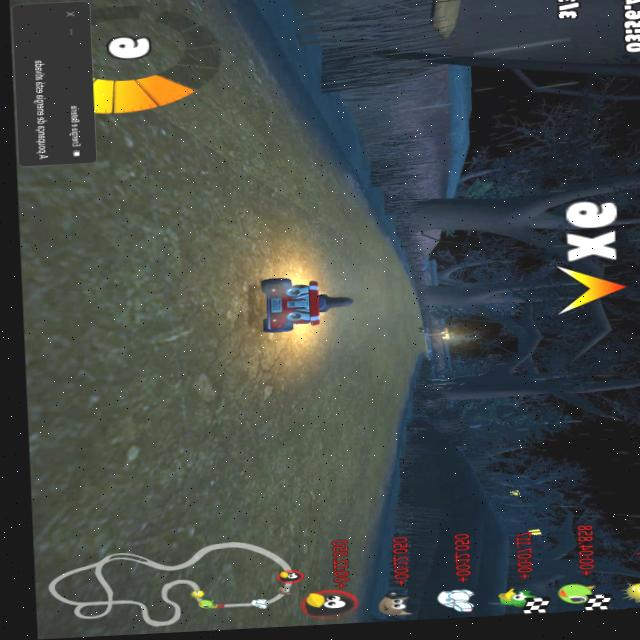player_kart: (258, 274, 359, 331)
track: (84, 0, 250, 634), (25, 162, 106, 639), (225, 59, 359, 277), (233, 358, 422, 507), (239, 499, 386, 629), (236, 326, 369, 367), (371, 288, 435, 359), (364, 224, 407, 290)
